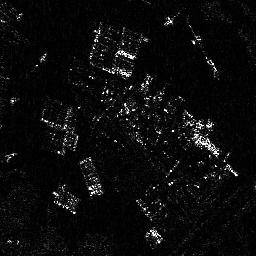ship: (77, 155, 104, 200), (185, 18, 206, 53), (204, 52, 223, 83)
